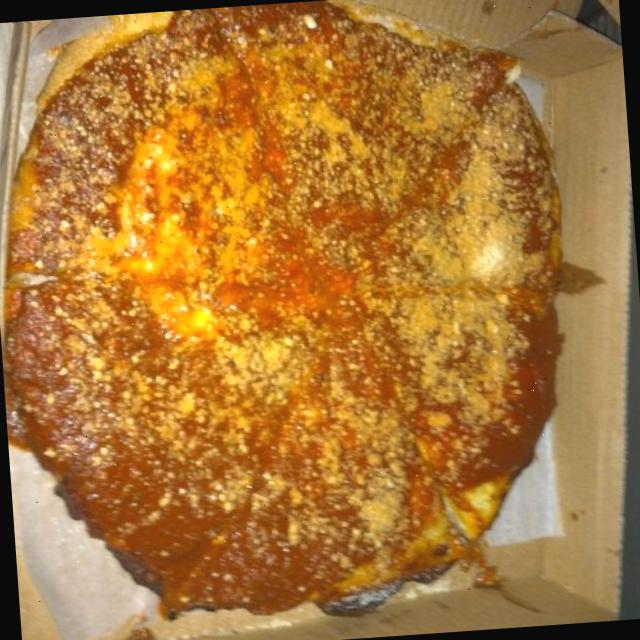pizza: (4, 0, 558, 612)
